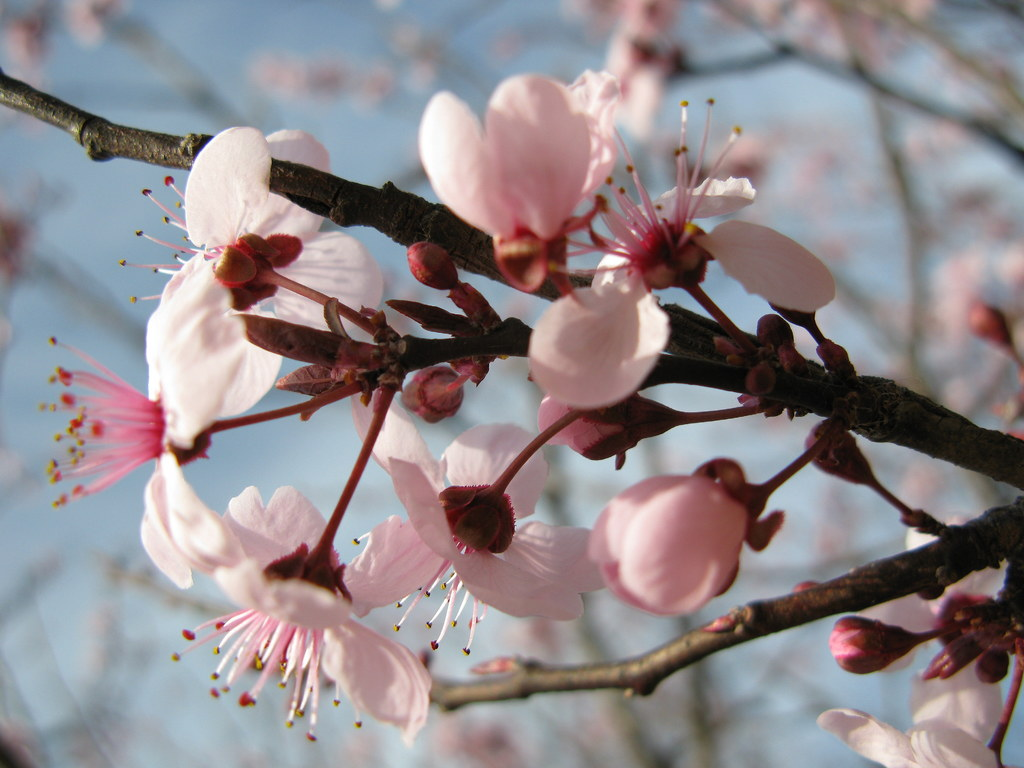Tree: (1, 1, 1021, 766)
